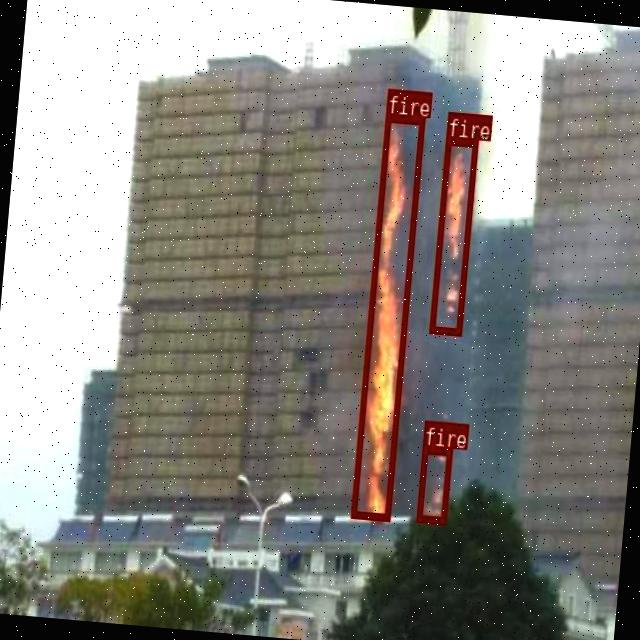fire: (349, 113, 424, 520), (428, 136, 477, 334), (415, 444, 452, 523)
